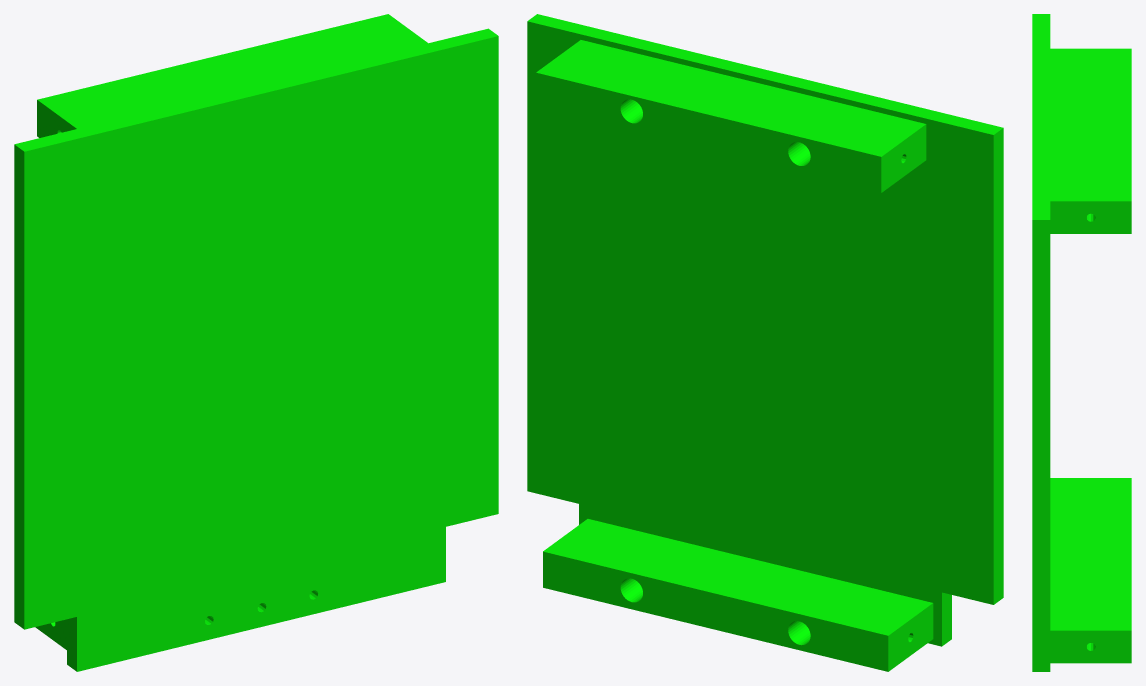
The model's file is sits_correct.obj.
The picture shows the model from 3 angles, left to right: view 1: azimuth 30°, elevation 25°; view 2: azimuth 150°, elevation 25°; view 3: azimuth 270°, elevation 25°; orthographic projection. The views are drawn at different scales.
Bounding box in the file's own units: 270 × 290 × 55.
